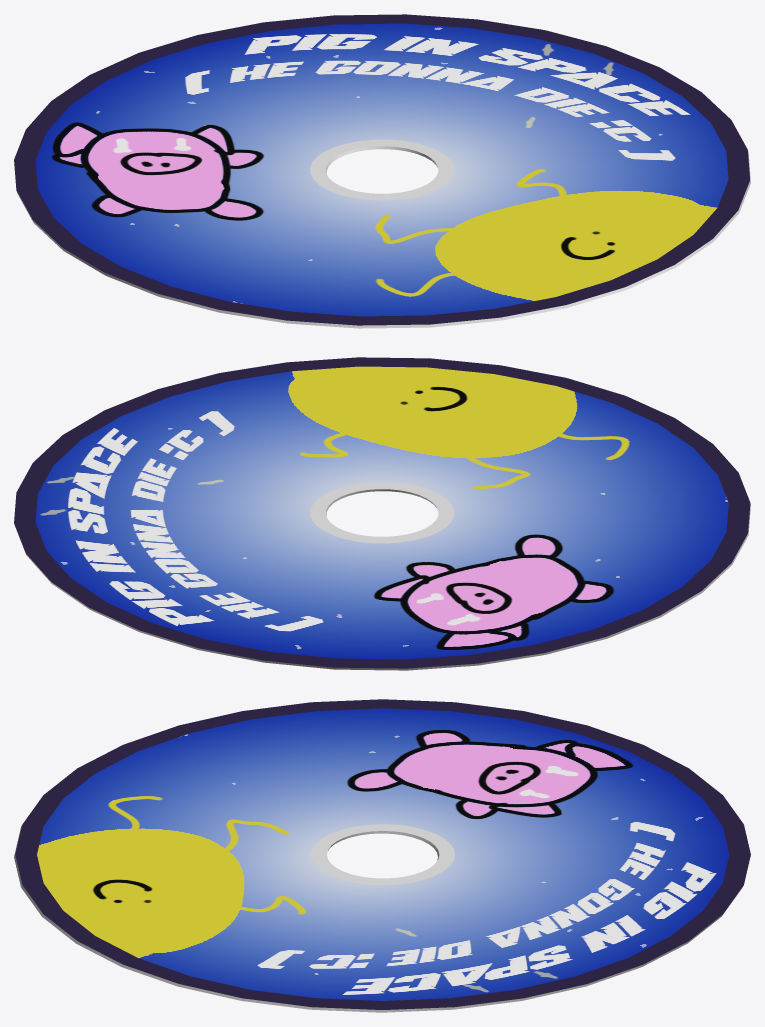
File: Disque.fbx
3 views of the same model, one above another, from view 1: azimuth 30°, elevation 25°; view 2: azimuth 150°, elevation 25°; view 3: azimuth 270°, elevation 25° (orthographic).
Visible parts, largest first — view 1: Disque; view 2: Disque; view 3: Disque.
Boxes of the visible parts, left/top/right/bottom form: Disque: left=14, top=14, right=750, bottom=328; Disque: left=14, top=357, right=750, bottom=670; Disque: left=14, top=699, right=750, bottom=1012.
Bounding box in the file's own units: 138 × 0.5211 × 138.
